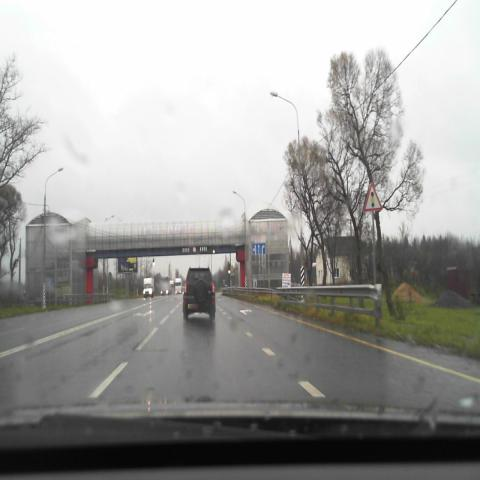1_8: (363, 182, 382, 211)
